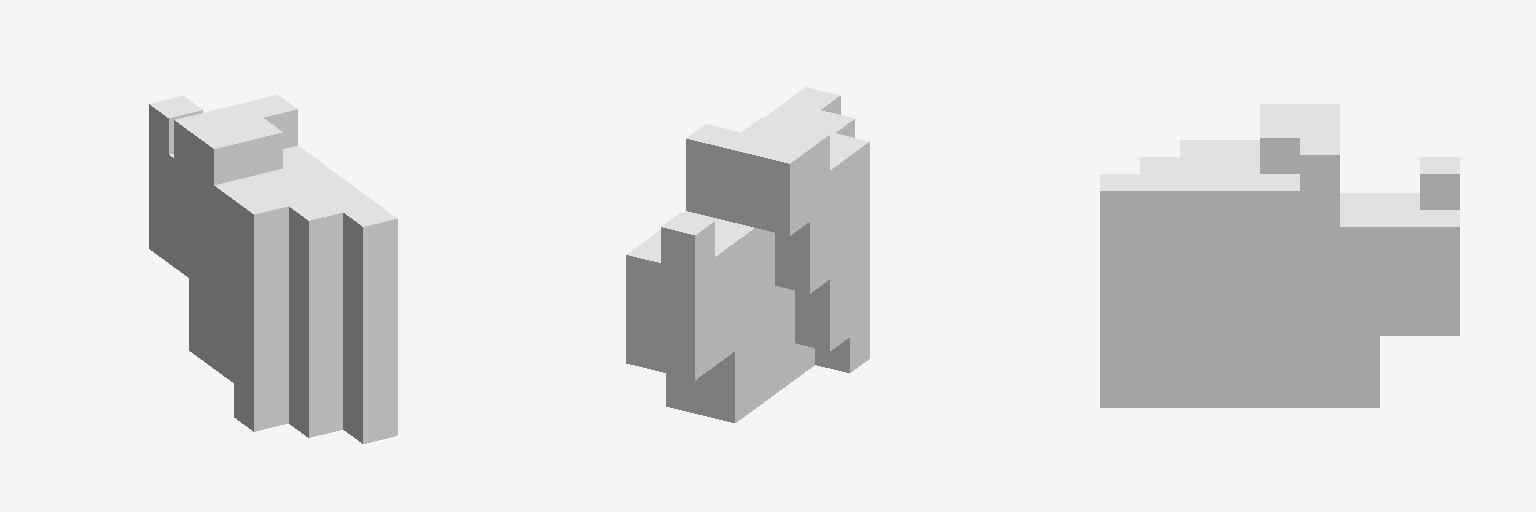
The model's file is Koala_D.obj.
3 renders of one model, left to right at view 1: azimuth 30°, elevation 25°; view 2: azimuth 150°, elevation 25°; view 3: azimuth 270°, elevation 25°, orthographic.
Parts seen in each view (by area): view 1: object 1; view 2: object 1; view 3: object 1.
Part boxes in pixels (x1,y1,x2,y2): object 1: (149,95,397,443); object 1: (626,87,869,422); object 1: (1100,104,1459,407).
Size of the model in its own units: 0.3 by 0.7 by 0.9.